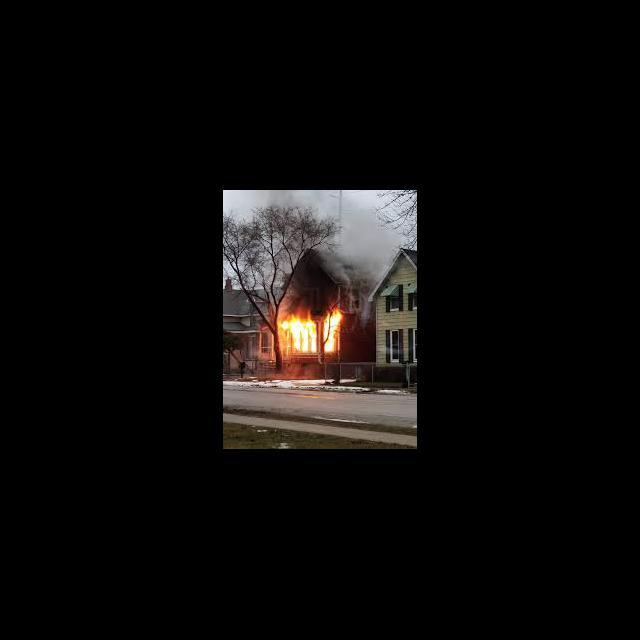Fire: (280, 308, 342, 357)
Smoke: (340, 204, 397, 270), (336, 270, 372, 320)
